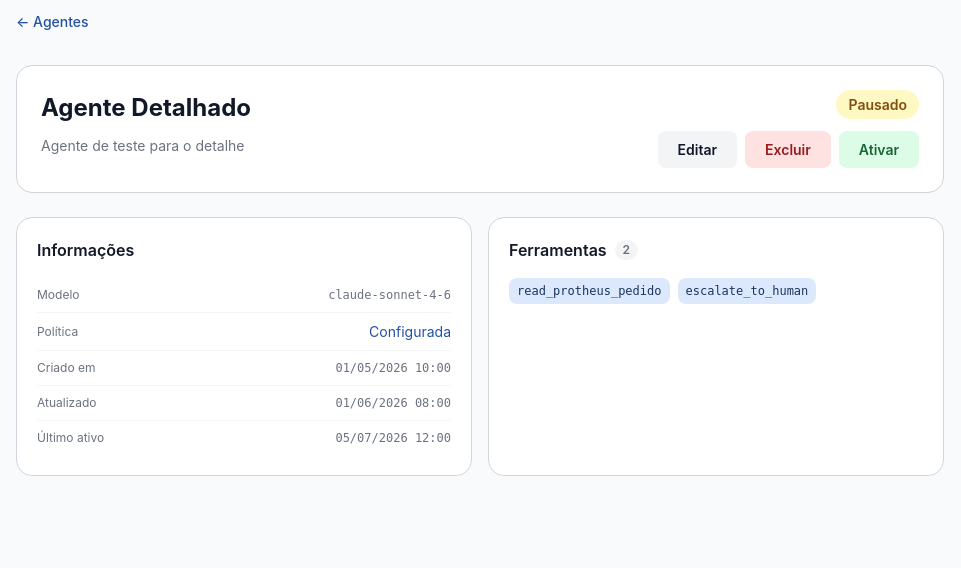
Scenario: AgenteDetailComponent — ativar › exibe erro quando POST /activate falha
Click the button with class "agente-detail__btn--ativar". click: (879, 150)
box: [839, 131, 919, 168]
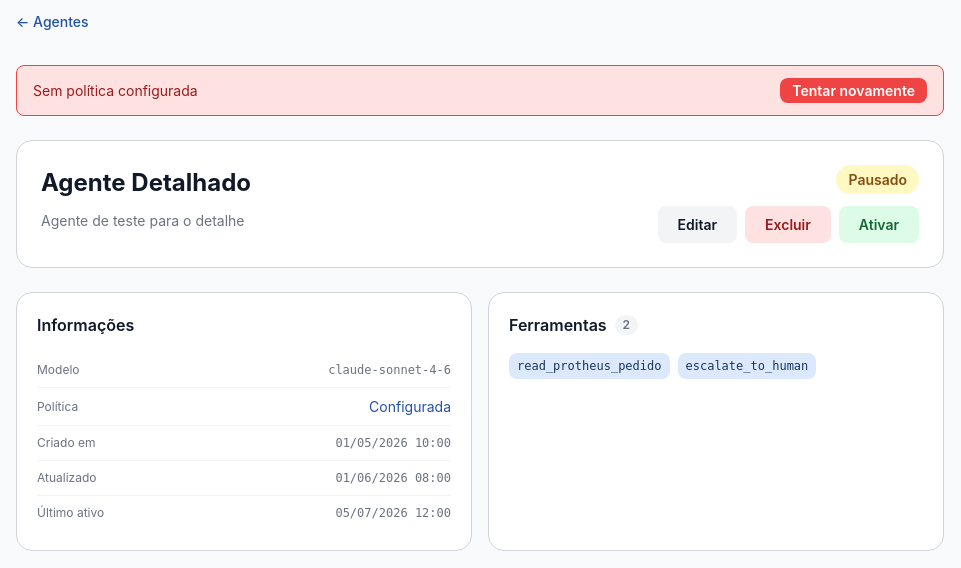
Check: the message "Sem política configurada Tentar novamente" is shown, box [16, 65, 944, 116]
